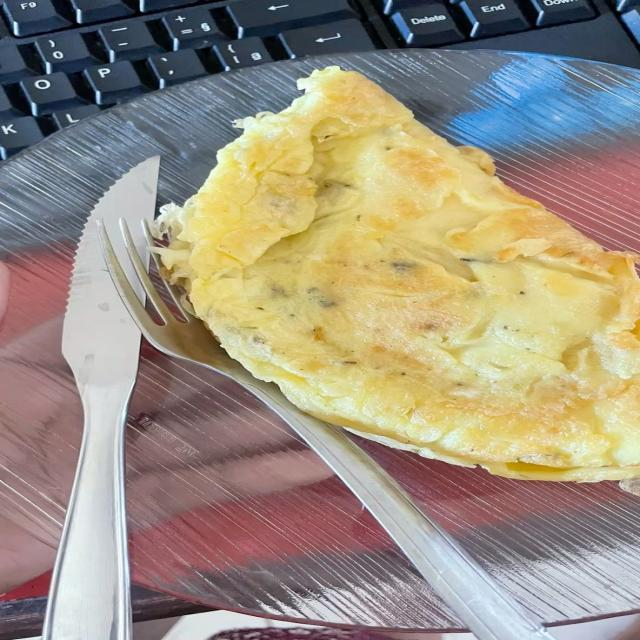omelette: (161, 68, 639, 480)
